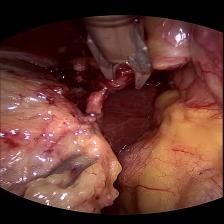Clipper: (73, 21, 157, 95)
Grasper: (20, 141, 123, 203)
